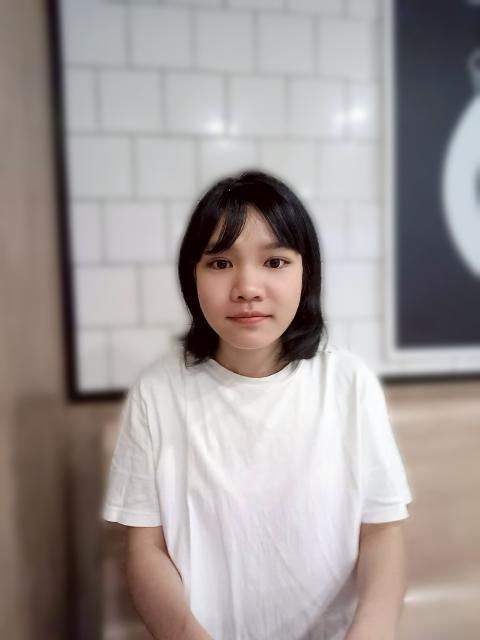fokus: (194, 189, 306, 354)
